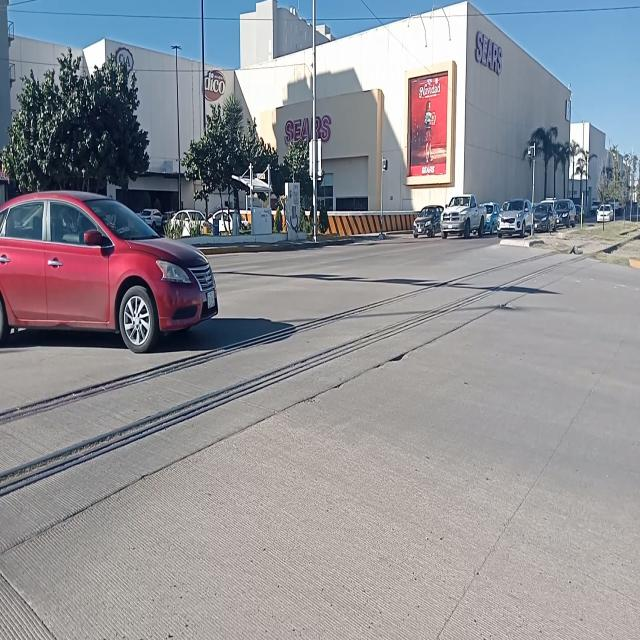Auto: (0, 185, 226, 370), (439, 189, 489, 242), (495, 190, 536, 240), (412, 204, 440, 240), (532, 196, 556, 232), (555, 196, 577, 227)
